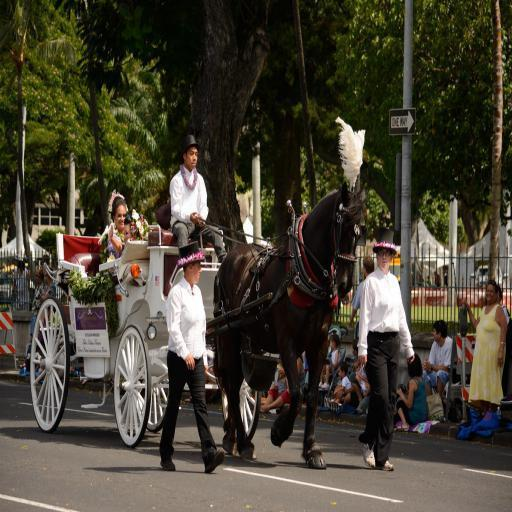horse: (214, 181, 368, 468)
